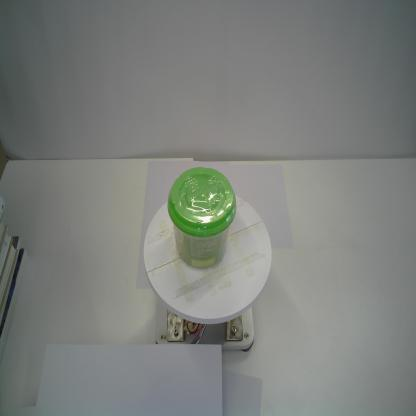Instant Drink: (167, 165, 237, 271)
